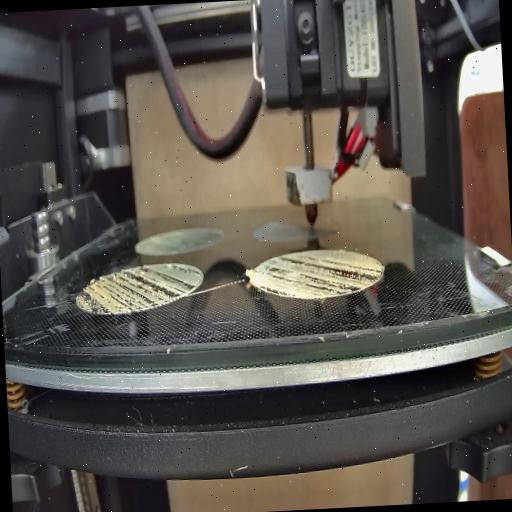under_extrusion: (78, 259, 200, 317), (259, 249, 384, 297)
